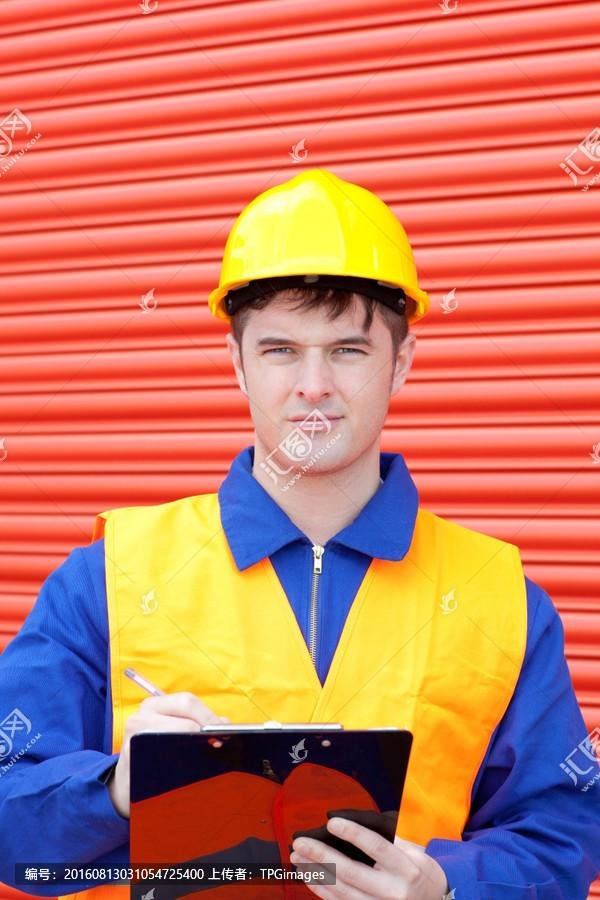helmet: (205, 168, 433, 327)
